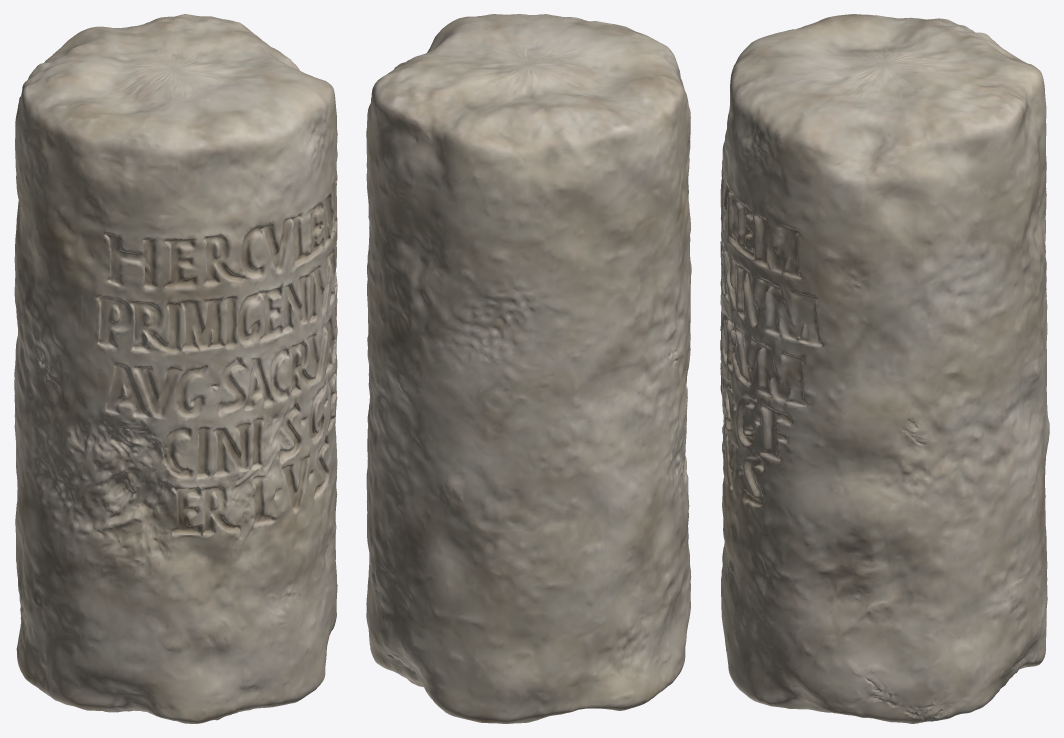
The model's file is 16_CIPO_hercvlem.glb.
3 renders of one model, left to right at view 1: azimuth 30°, elevation 25°; view 2: azimuth 150°, elevation 25°; view 3: azimuth 270°, elevation 25°, orthographic.
Parts seen in each view (by area): view 1: HERCVLEM_LP.001; view 2: HERCVLEM_LP.001; view 3: HERCVLEM_LP.001.
Part boxes in pixels (x1=…): HERCVLEM_LP.001: x1=14, y1=14, x2=337, y2=723; HERCVLEM_LP.001: x1=366, y1=14, x2=691, y2=723; HERCVLEM_LP.001: x1=720, y1=14, x2=1049, y2=723.
Size of the model in its own units: 0.2602 by 0.5386 by 0.2626.
1 material, 1 textured.
